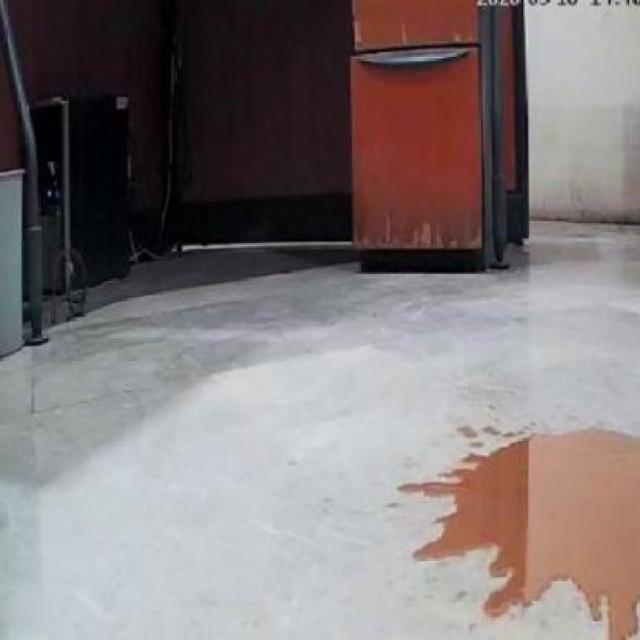spillage: (413, 432, 640, 640)
